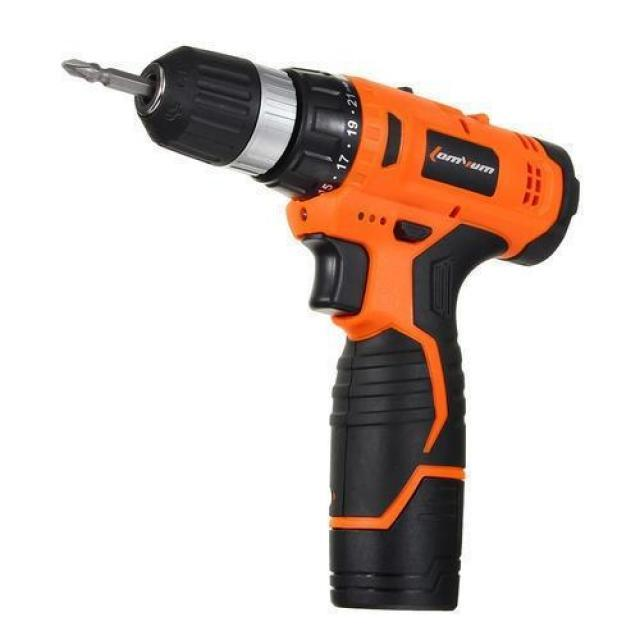drill: (62, 44, 581, 611)
